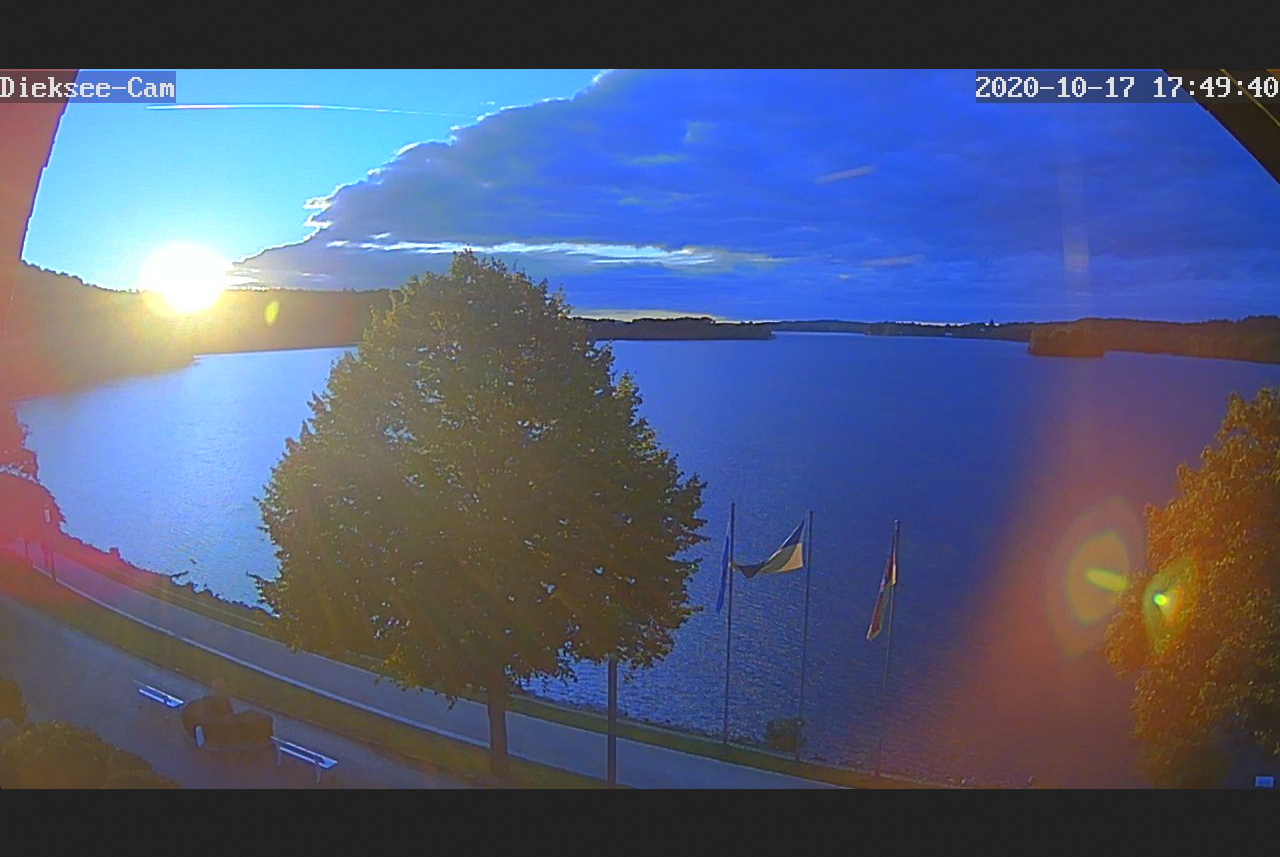maybe: (732, 513, 808, 582)
no: (865, 529, 897, 648), (715, 519, 730, 615)
